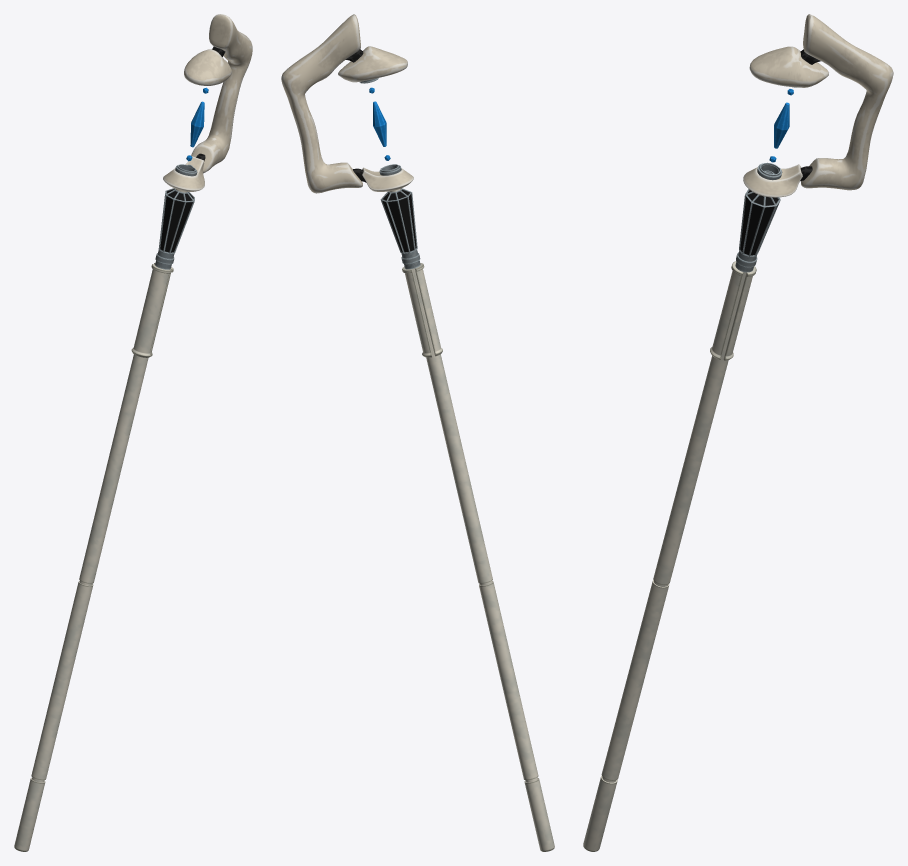
The picture shows the model from 3 angles, left to right: view 1: azimuth 30°, elevation 25°; view 2: azimuth 150°, elevation 25°; view 3: azimuth 330°, elevation 25°; orthographic projection. The views are drawn at different scales.
Visible parts, largest first — view 1: handle_0; view 2: handle_0; view 3: handle_0.
Part boxes in pixels (box(x1,y1,x2,y2)): handle_0: box(14, 14, 252, 851); handle_0: box(281, 14, 554, 851); handle_0: box(583, 14, 893, 851).
Bounding box in the file's own units: 0.6522 × 1.94 × 0.196.
Materials: 1 (1 with a texture image).
